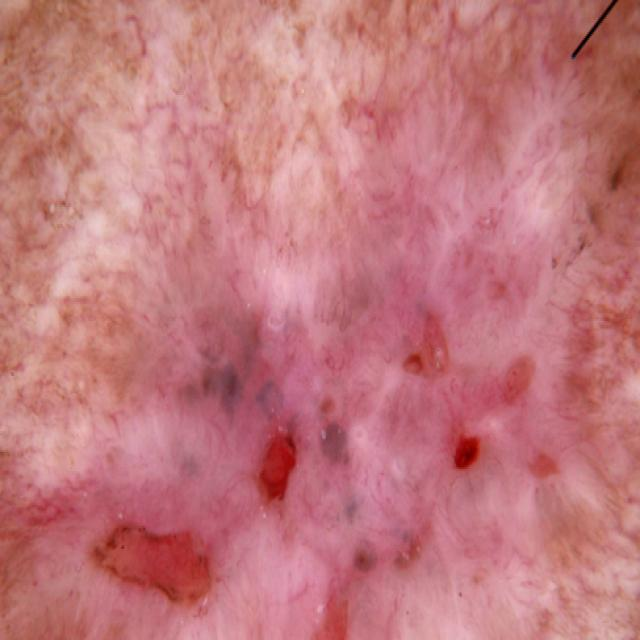Carcinoma: (34, 254, 610, 640)
